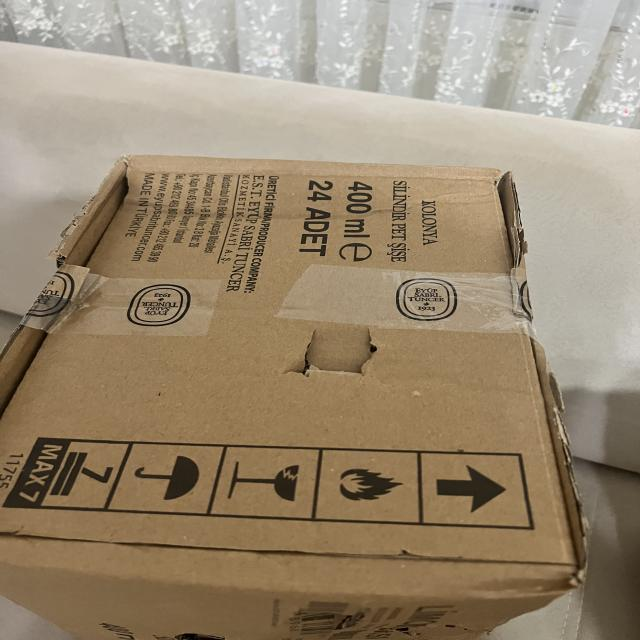damaged: (0, 148, 599, 640), (288, 306, 397, 392)
